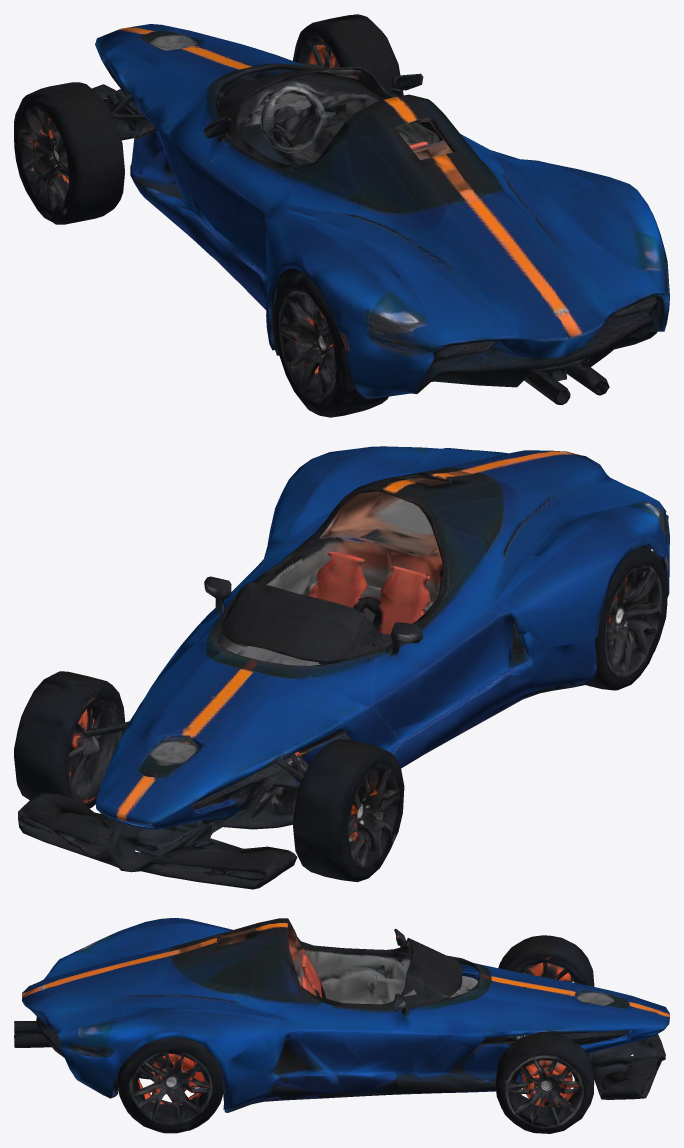
Rendered from hero-cobalt.glb.
3 views of the same model, one above another, from view 1: azimuth 30°, elevation 25°; view 2: azimuth 150°, elevation 25°; view 3: azimuth 270°, elevation 25° (orthographic). The views are drawn at different scales.
Bounding box in the file's own units: 0.7924 × 0.4961 × 1.9.
1 material, 1 textured.
